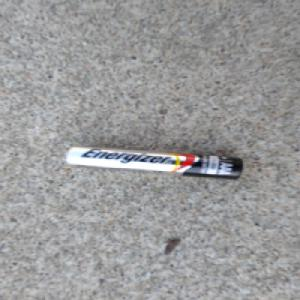Battery: (61, 144, 246, 180)
